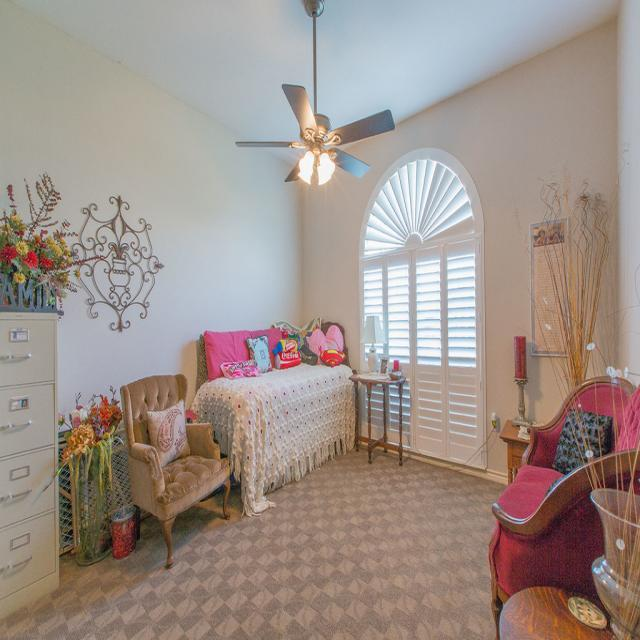fan_off: (234, 0, 401, 185)
